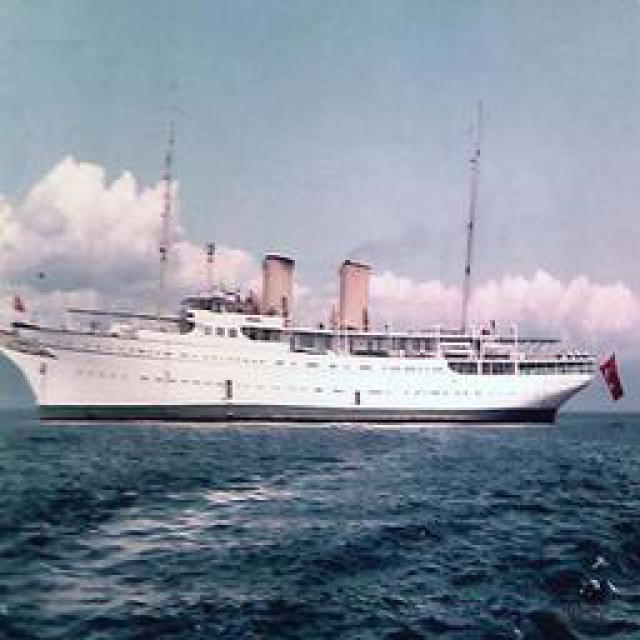Ship: (1, 214, 613, 425)
